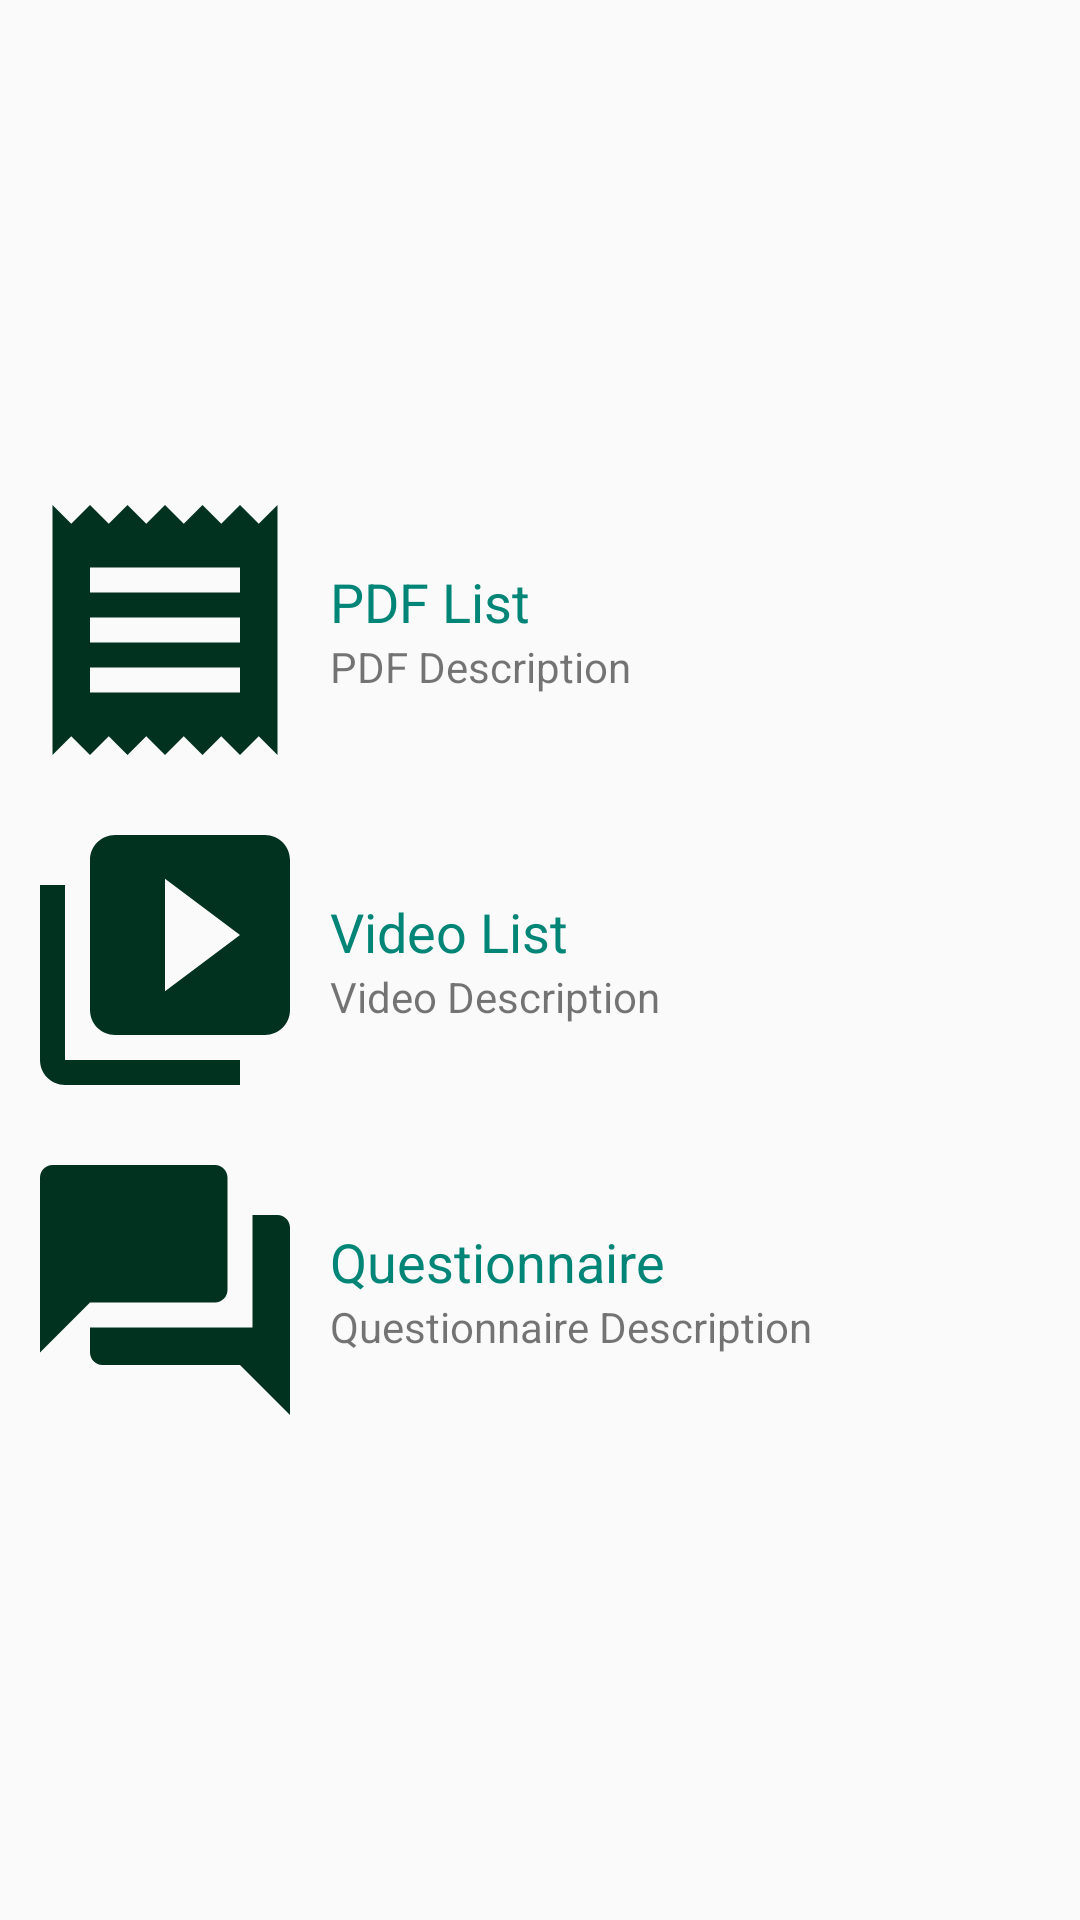

Icon bounding boxes for this 1080px x 1920px phone screenshot, format (x1, y1, x2, y2):
paper: (52, 505, 278, 755)
question answer: (40, 1165, 290, 1415)
